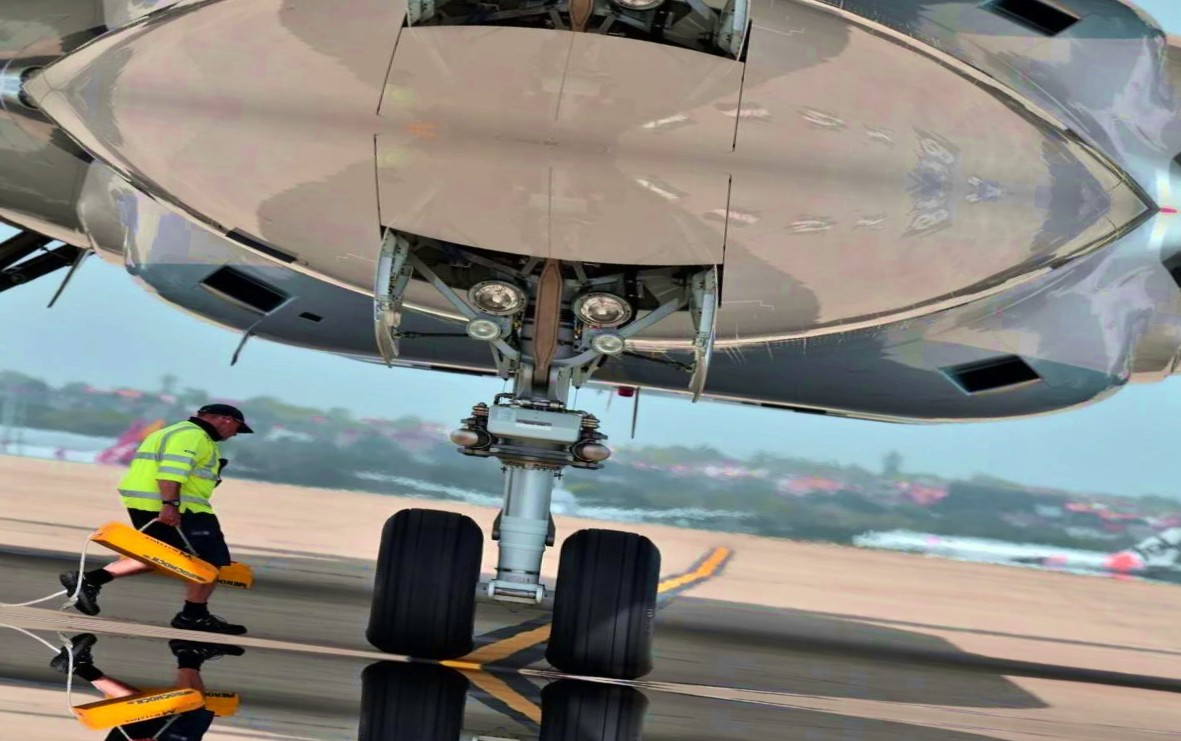chock: (82, 518, 230, 587), (65, 675, 213, 741), (103, 682, 241, 722), (118, 547, 255, 587)
wheel: (365, 504, 490, 662), (547, 524, 670, 682), (348, 659, 473, 741), (530, 679, 653, 741)
